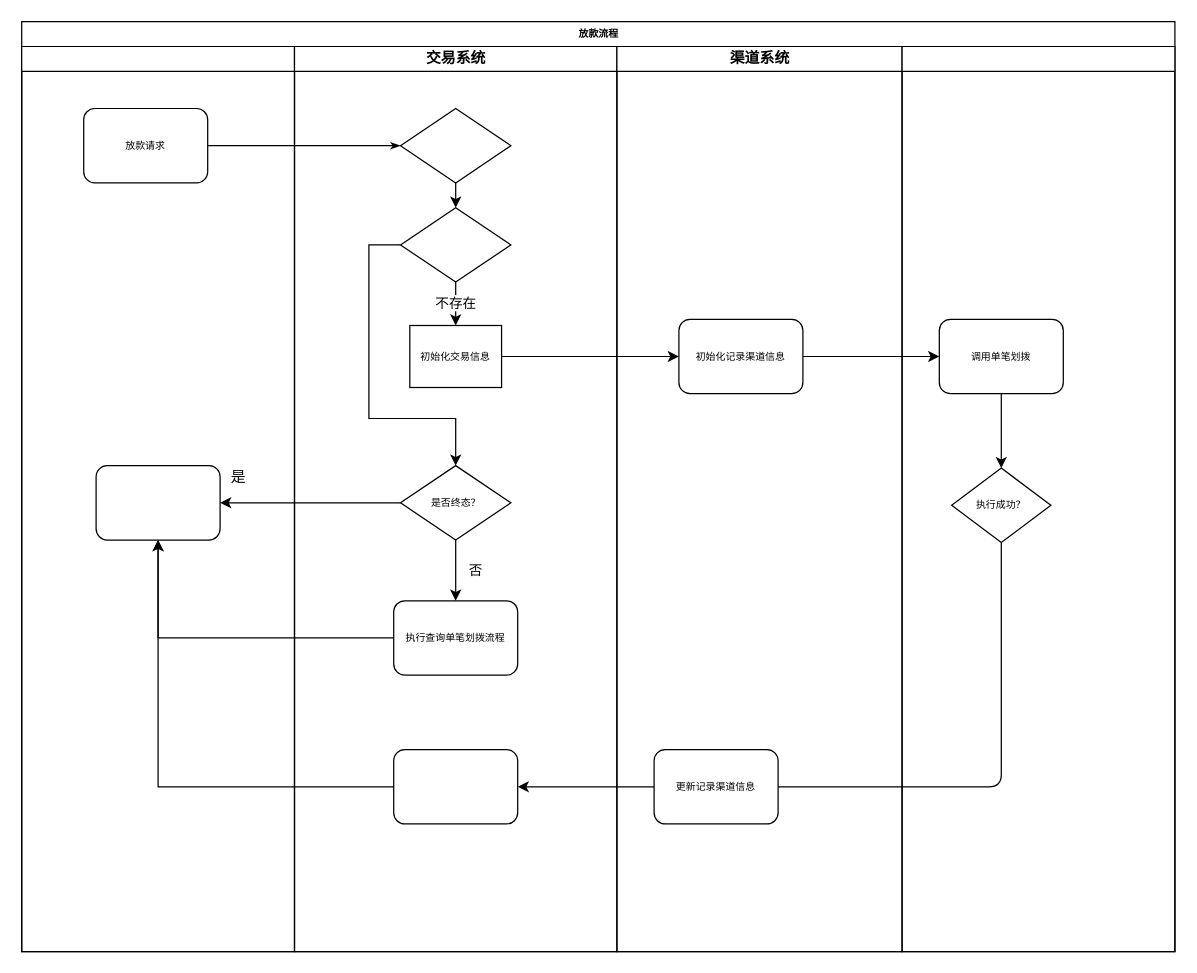
Some shapes in this 1197 by 973 pixel diagram are drawn without their labels. Each missing label, with the box of its shape:
1、执行成功、失败更新交易记录: (392, 748, 518, 824)
业务接入方: (20, 45, 294, 952)
放款请求返回: (95, 464, 220, 540)
是否存在？: (399, 206, 511, 282)
查询数据库: (399, 107, 511, 183)
浦发银行: (901, 45, 1175, 952)
